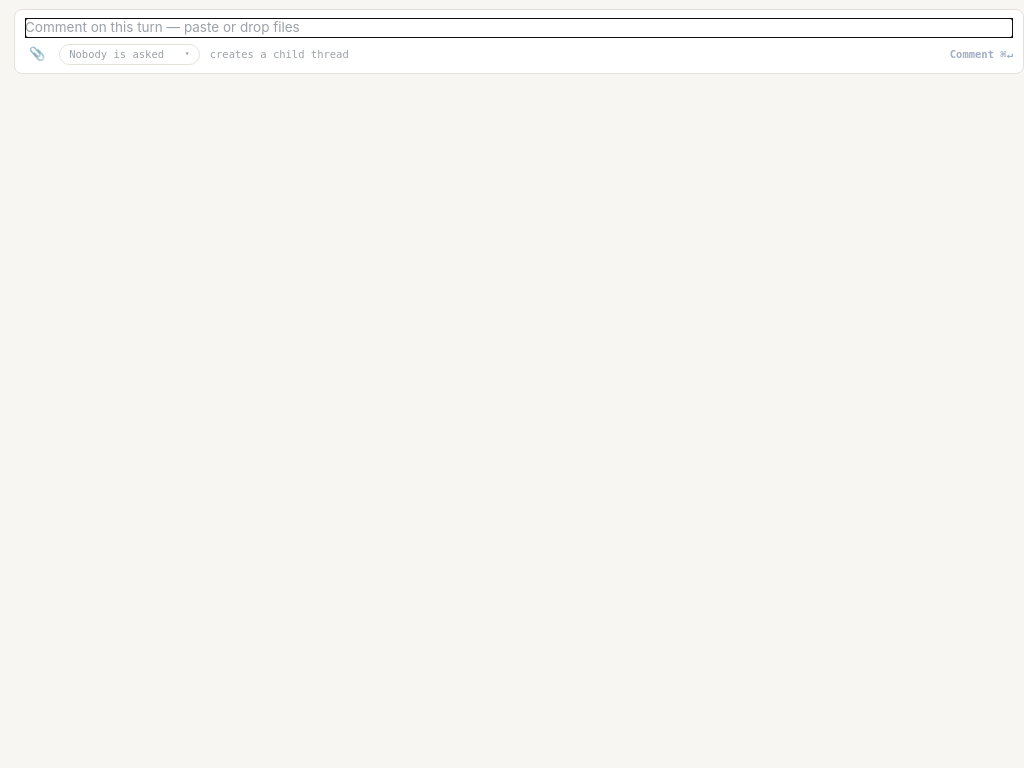
Test case: a comment on a turn › offers the roster's lanes, the orchestrator's first
Click the button "Nobody is asked ▾" at {"x": 129, "y": 54}, box [59,44,200,65]
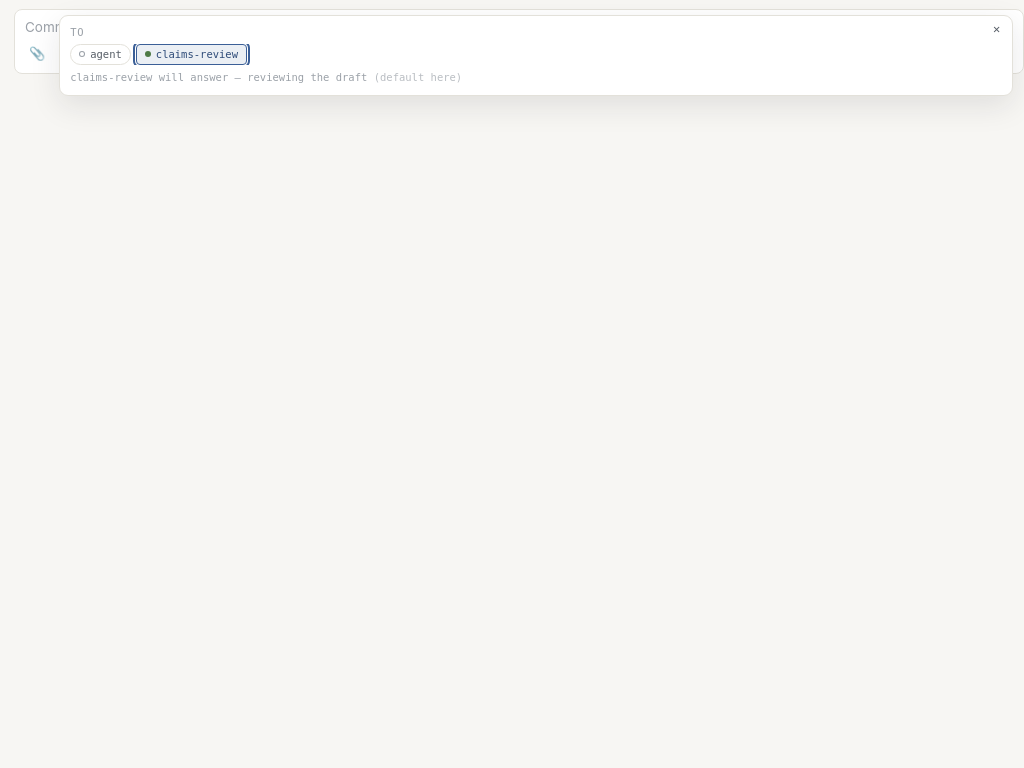
Expected: the button "agent" is shown, [70,44,131,65]
Expected: the button "claims-review" is shown, [136,44,247,65]
